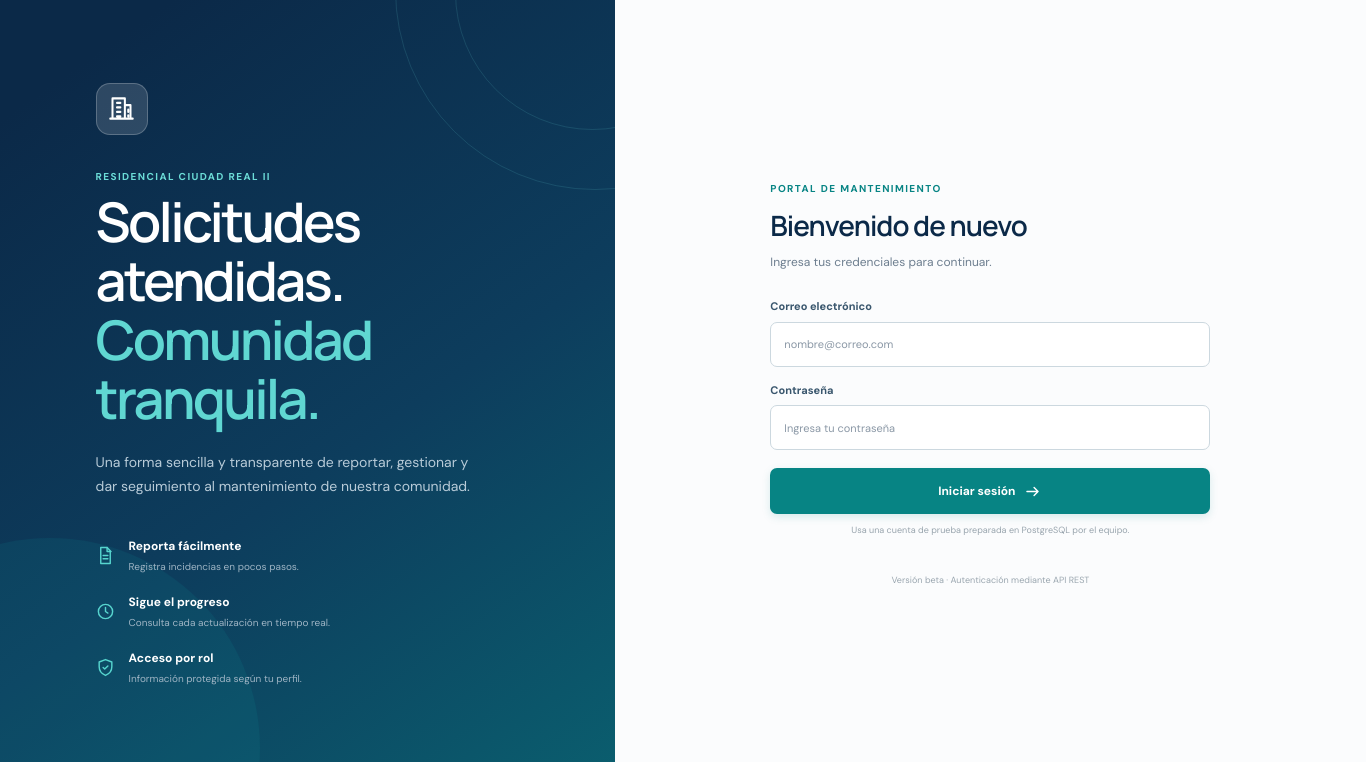
Test: el formulario llama a la API y abre el panel del usuario devuelto
Expected: the button "Iniciar sesión" is shown, [770,468,1210,514]
Type "residente@cr2.do" into the field labelled "Correo electrónico". click: (990, 344)
box: [770,322,1210,366]
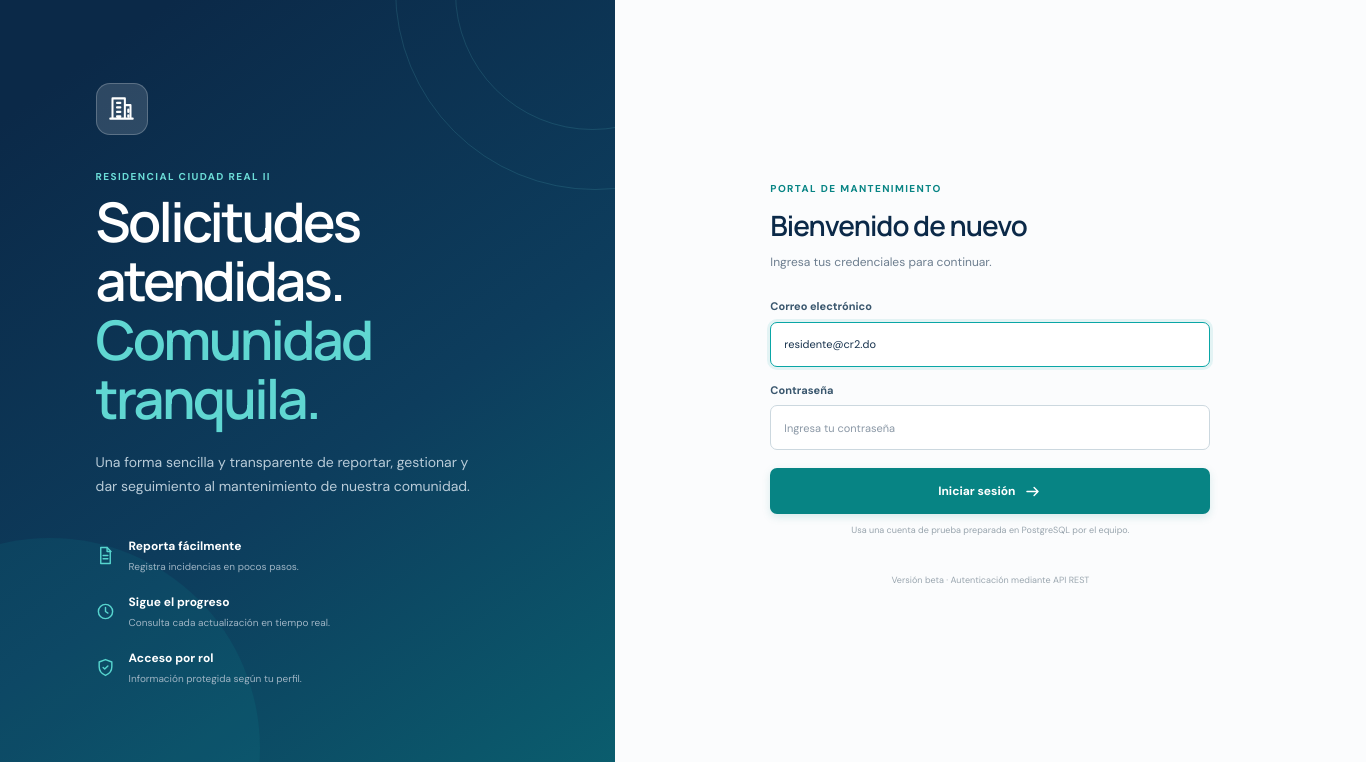
Type "demo123" into the password field labelled "Contraseña". click: (990, 428)
box: [770,405,1210,450]
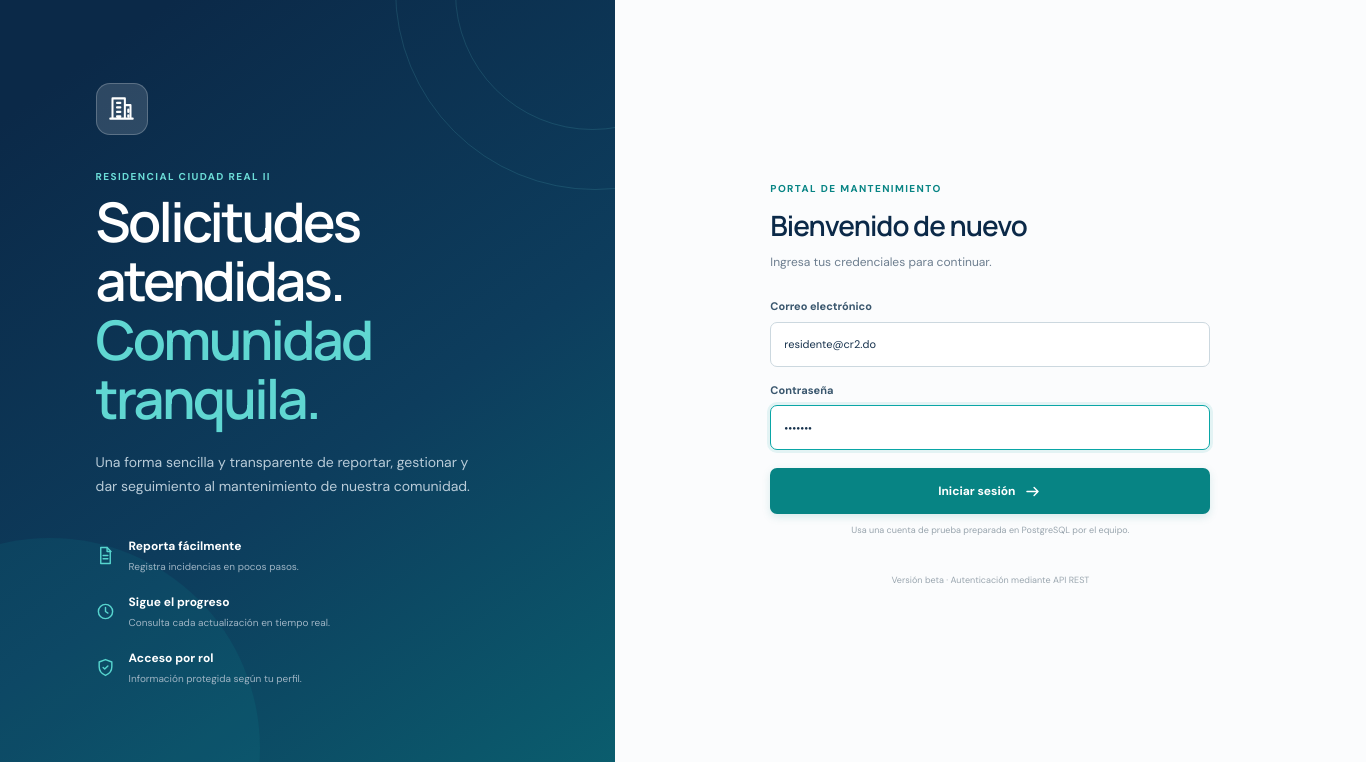
Click the button "Iniciar sesión". click: (990, 491)
box: [770,468,1210,514]
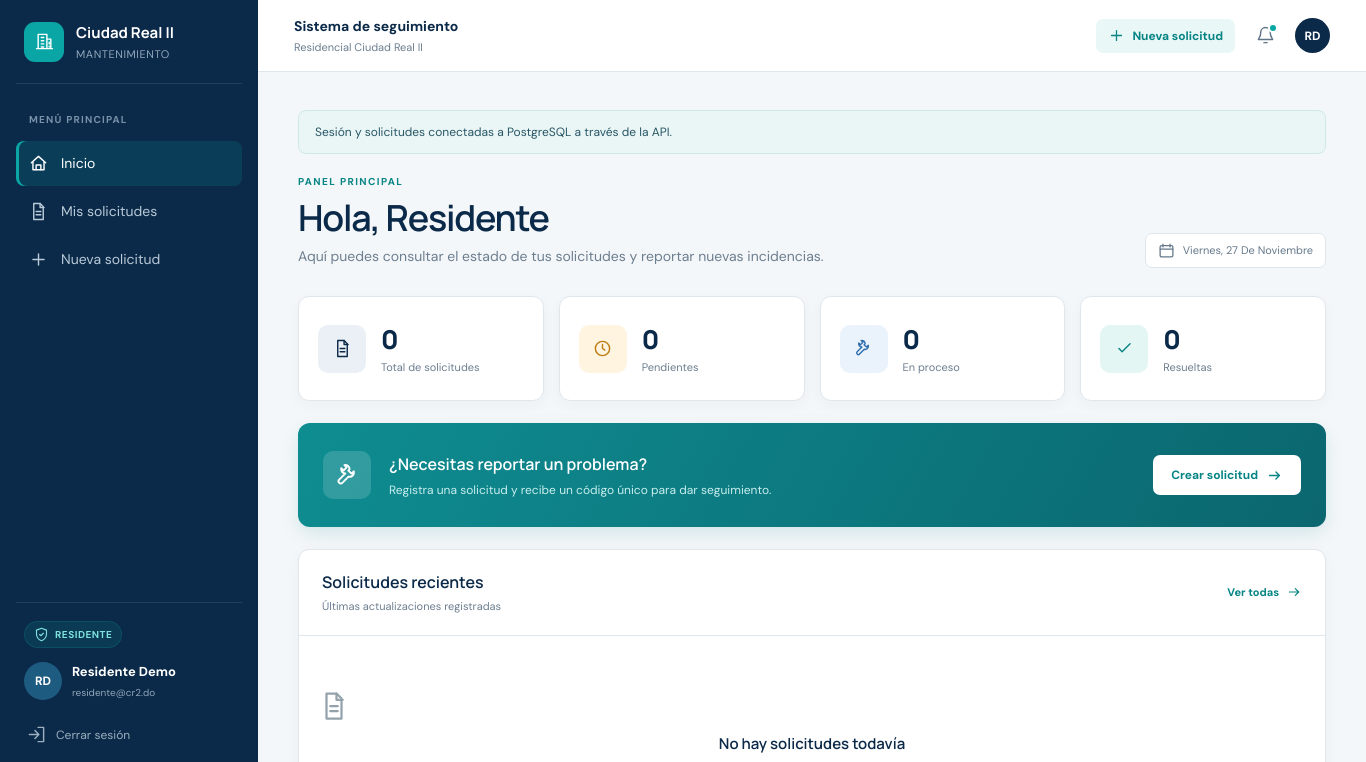
Now the heading "Hola, Residente" is shown, box [298,193,549,242]
